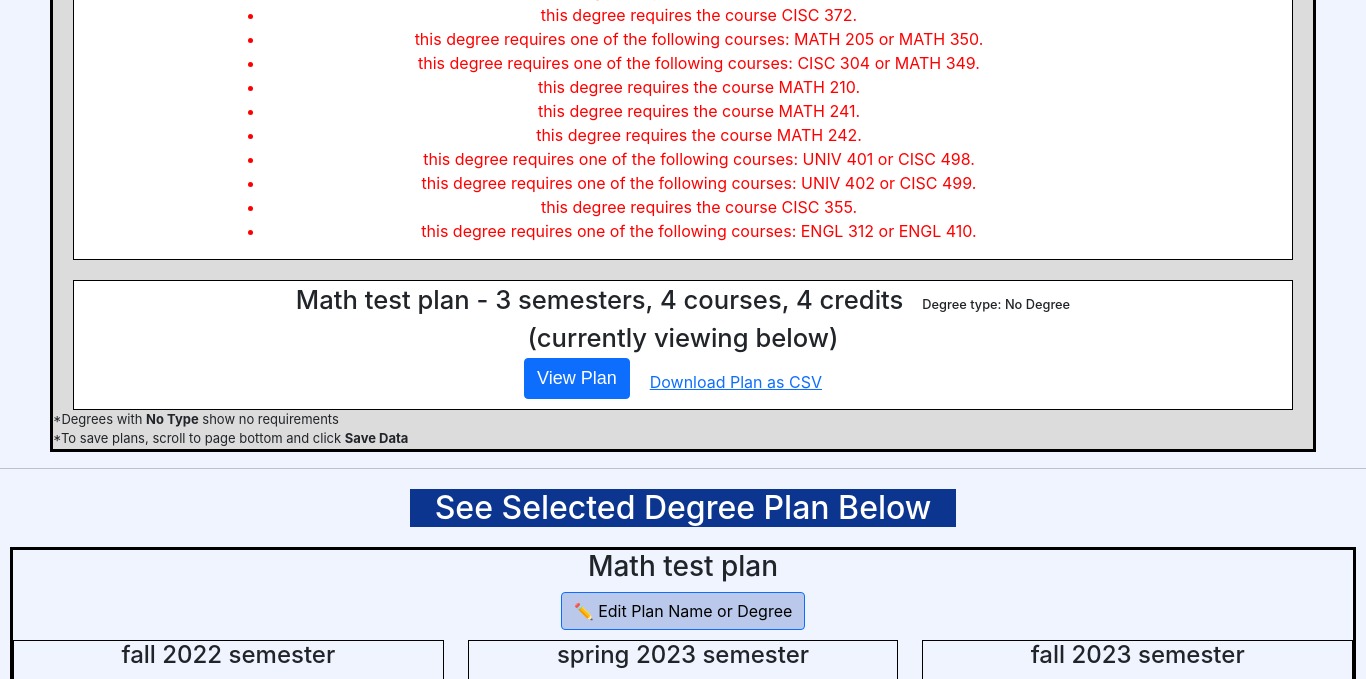
Test: ViewDegreePlan Tests › Test Clear All Semester button
(page scrolled)
Click the button with test id "107-degree-plan" at (577, 378), box [524,358,630,399]
(page scrolled)
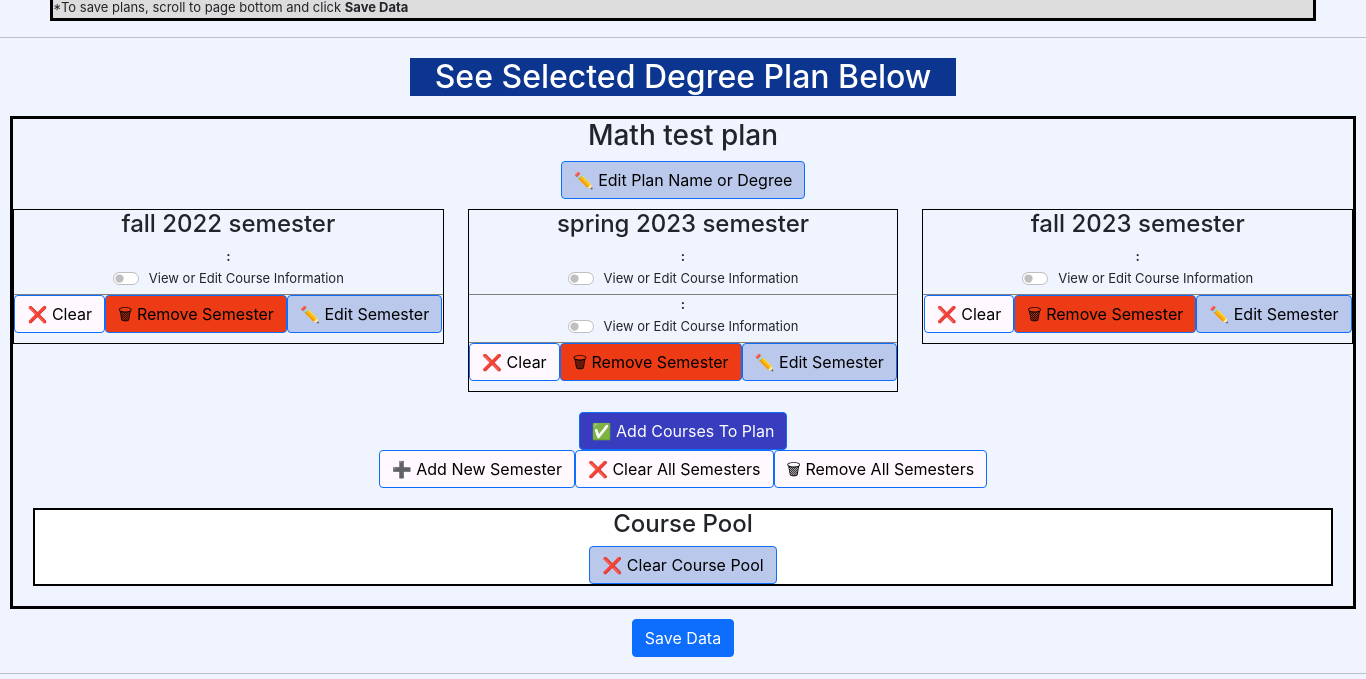
Expected: the number of headings "fall 2022 semester" is 1, [122,209,335,238]
Expected: the number of headings "spring 2023 semester" is 1, [557,209,809,238]
Click the button with test id "107-remove-semester-degree-plan" at (880, 468), box [774,450,987,488]
(page scrolled)
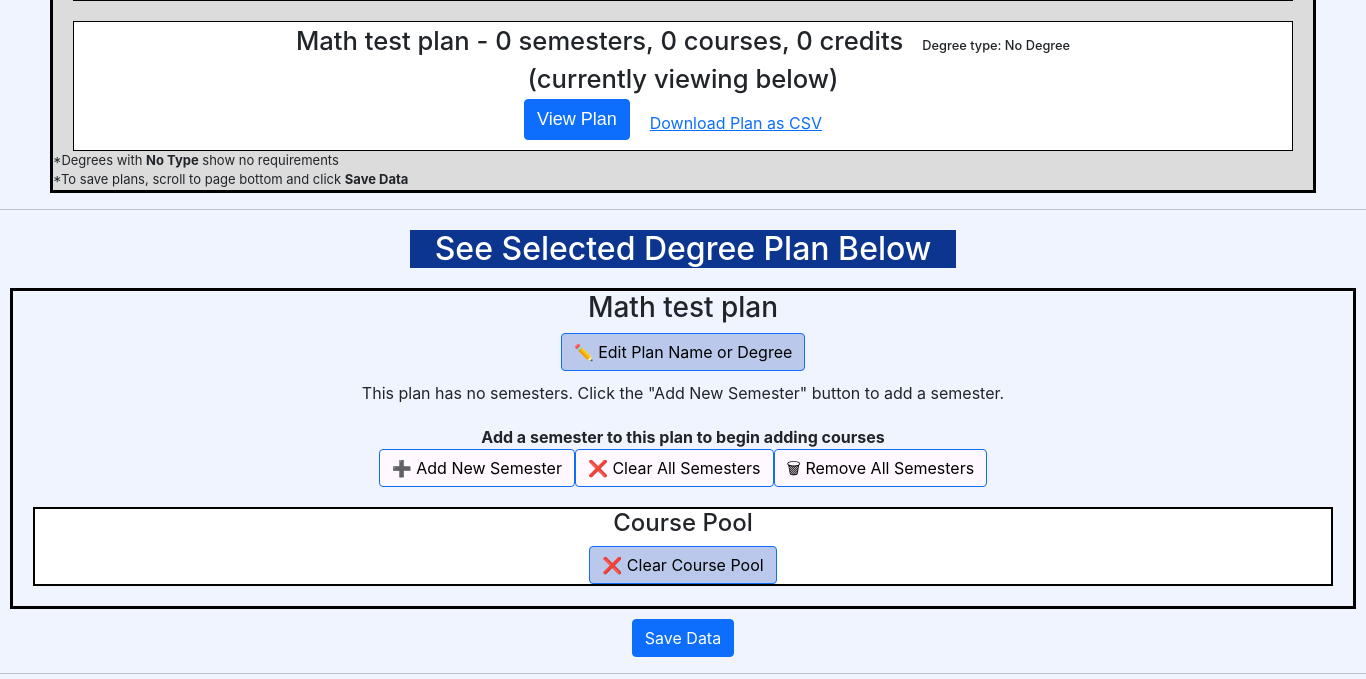
Result: no headings "fall 2022 semester" are shown
Result: no headings "spring 2023 semester" are shown
Result: no headings "fall 2023 semester" are shown
